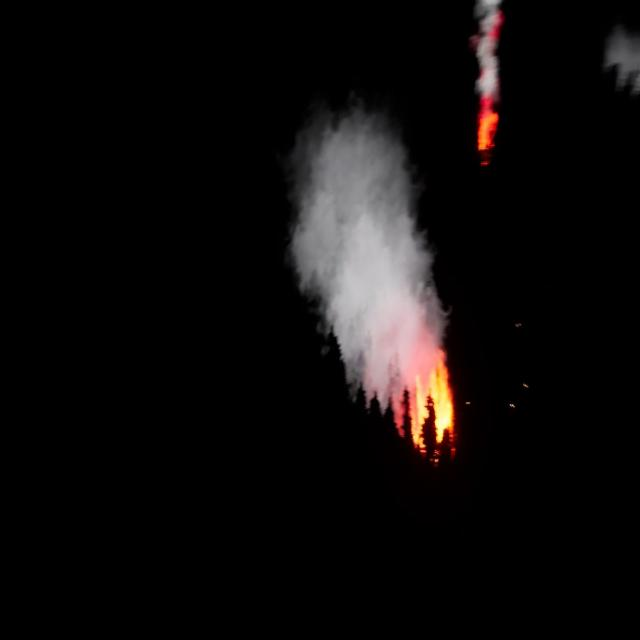fire: (406, 358, 456, 459), (476, 98, 497, 154)
smoke: (280, 114, 448, 409), (475, 0, 503, 99), (605, 26, 640, 98)
